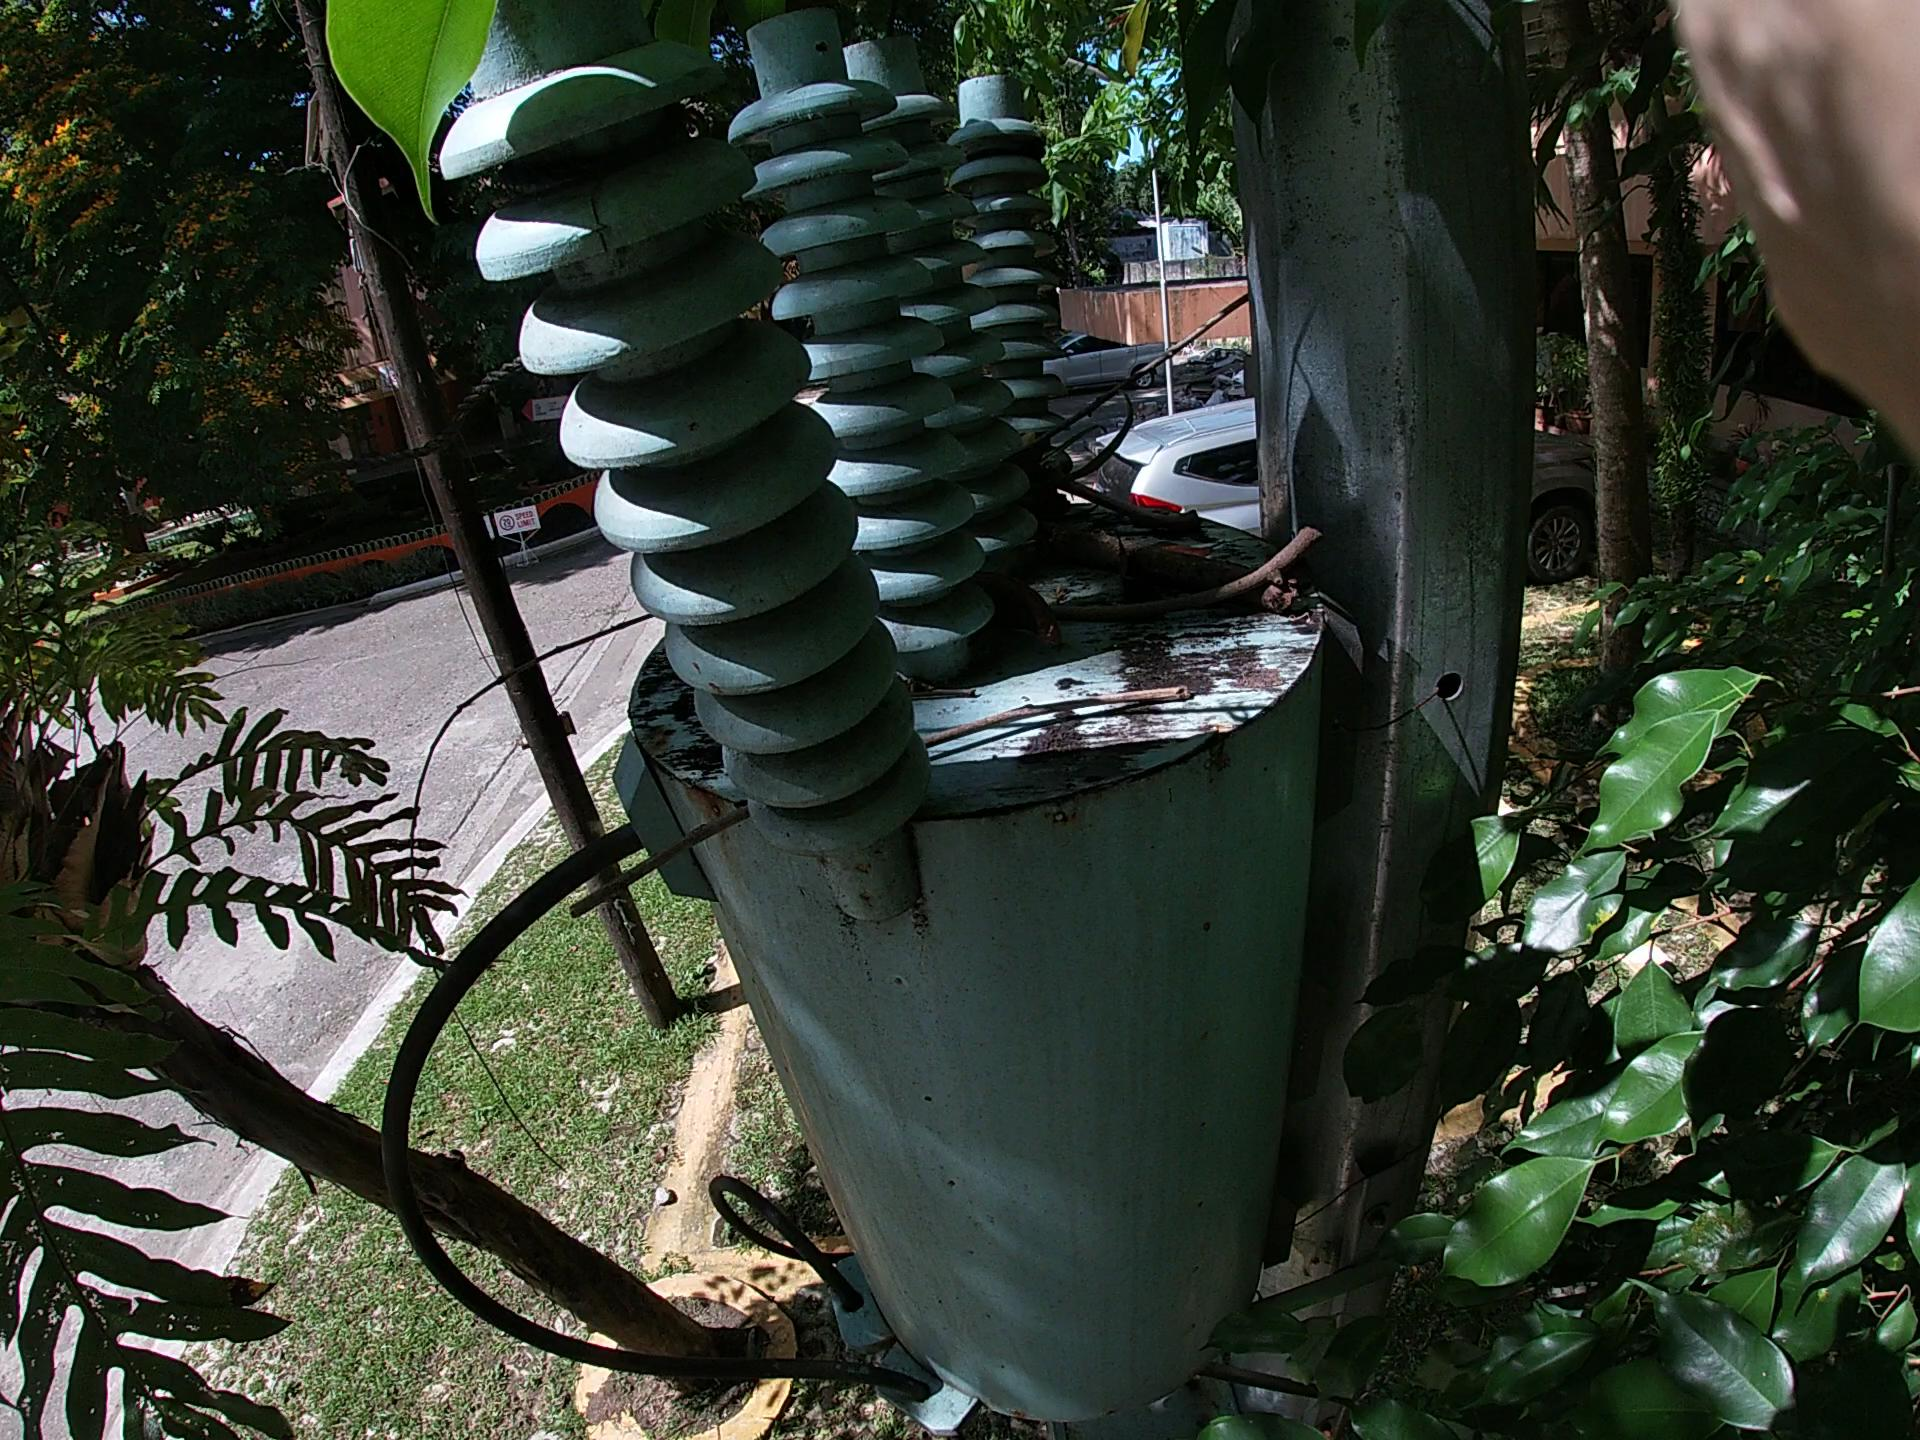branch with leaves: (854, 369, 1341, 650)
leaf: (1104, 476, 1232, 626)
tree branch: (544, 622, 1231, 924), (999, 257, 1327, 542), (992, 523, 1388, 669), (971, 433, 1252, 545)
